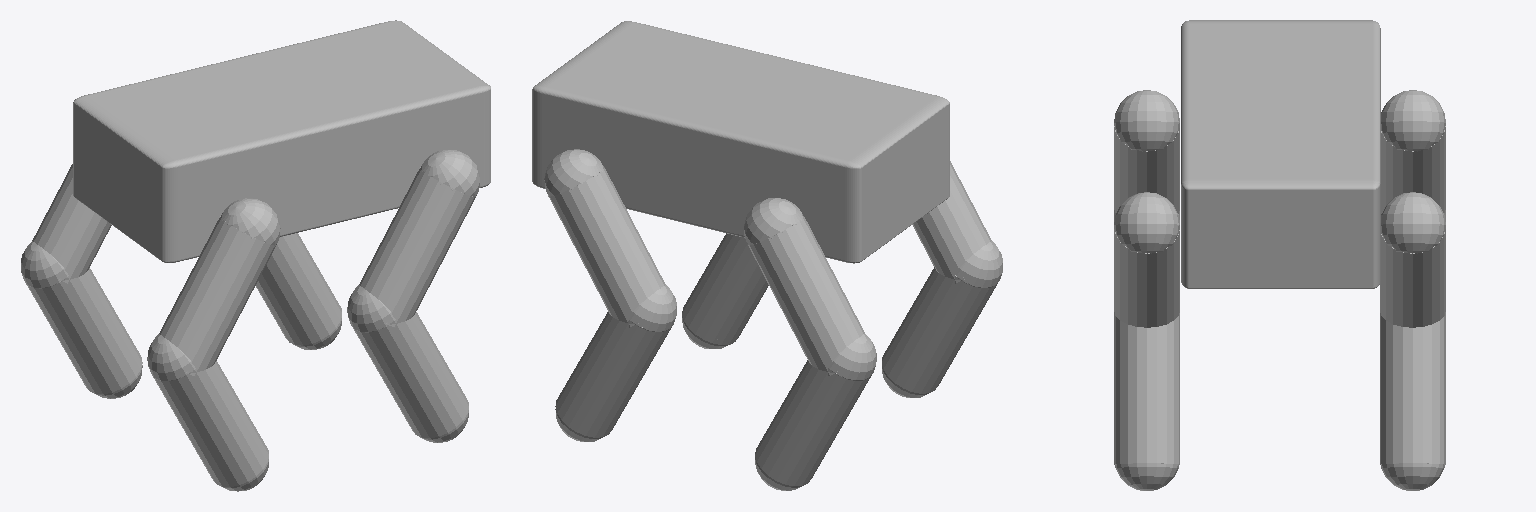
URDF robot description (spot):
<?xml version="1.0" encoding="utf-8"?>
<robot
  name="spot">

  <link
    name="base_link">
    <inertial>
      <origin
        xyz="0 0 0"
        rpy="0 0 0" />
      <mass
        value="0" />
      <inertia
        ixx="0"
        ixy="0"
        ixz="0"
        iyy="0"
        iyz="0"
        izz="0" />
    </inertial>
    <visual>
      <origin
        xyz="0 0 0"
        rpy="0 0 0" />
      <geometry>
        <mesh
          filename="package://spot_description/meshes/base_link.STL" />
      </geometry>
      <material
        name="">
        <color
          rgba="0.75294 0.75294 0.75294 1" />
      </material>
    </visual>
    <collision>
      <origin
        xyz="0 0 0"
        rpy="0 0 0" />
      <geometry>
        <mesh
          filename="package://spot_description/meshes/base_link.STL" />
      </geometry>
    </collision>
  </link>

  <link
    name="body_link">
    <inertial>
      <origin
        xyz="0 0 0"
        rpy="0 0 0" />
      <mass
        value="10" />
      <inertia
        ixx="1.00403567718539703"
        ixy="5.84359207050874E-20"
        ixz="-1.82010263240806E-19"
        iyy="1.00762097538812802"
        iyz="-1.82130436040198E-19"
        izz="1.00403567718539703" />
    </inertial>
    <visual>
      <origin
        xyz="0 0 0"
        rpy="0 0 0" />
      <geometry>
        <mesh
          filename="package://spot_description/meshes/body.dae" />
      </geometry>
      <material
        name="">
        <color
          rgba="0.752941176470588 0.752941176470588 0.752941176470588 1" />
      </material>
    </visual>
    <collision>
      <origin
        xyz="0 0 0"
        rpy="0 0 0" />
      <geometry>
        <mesh
          filename="package://spot_description/meshes/body.dae" />
      </geometry>
    </collision>
  </link>
  <joint
    name="body_joint"
    type="fixed">
    <origin
      xyz="0 0 1.2"
      rpy="0 0 0" />
    <parent
      link="base_link" />
    <child
      link="body_link" />
    <axis
      xyz="0 0 0" />
  </joint>

  <link
    name="leg_fr_link">
    <inertial>
      <origin
        xyz="0 0 0"
        rpy="0 0 0" />
      <mass
        value="1.33048365251046" />
      <inertia
        ixx="0.00403567718539703"
        ixy="5.84359207050874E-20"
        ixz="-1.82010263240806E-19"
        iyy="0.00762097538812802"
        iyz="-1.82130436040198E-19"
        izz="0.00403567718539703" />
    </inertial>
    <visual>
      <origin
        xyz="0 0 0"
        rpy="0 0 0" />
      <geometry>
        <mesh
          filename="package://spot_description/meshes/leg.dae" />
      </geometry>
      <material
        name="">
        <color
          rgba="0.752941176470588 0.752941176470588 0.752941176470588 1" />
      </material>
    </visual>
    <collision>
      <origin
        xyz="0 0 0"
        rpy="0 0 0" />
      <geometry>
        <mesh
          filename="package://spot_description/meshes/leg.dae" />
      </geometry>
    </collision>
  </link>
  <joint
    name="leg_fr_joint"
    type="continuous">
    <origin
      xyz="0.47 -0.5 -0.07"
      rpy="0 0 0" />
    <parent
      link="body_link" />
    <child
      link="leg_fr_link" />
    <axis
      xyz="0 1 0" />
  </joint>

  <link
    name="leg_fl_link">
    <inertial>
      <origin
        xyz="0 0 0"
        rpy="0 0 0" />
      <mass
        value="1.33048365251046" />
      <inertia
        ixx="0.00403567718539703"
        ixy="5.84359207050874E-20"
        ixz="-1.82010263240806E-19"
        iyy="0.00762097538812802"
        iyz="-1.82130436040198E-19"
        izz="0.00403567718539703" />
    </inertial>
    <visual>
      <origin
        xyz="0 0 0"
        rpy="0 0 0" />
      <geometry>
        <mesh
          filename="package://spot_description/meshes/leg.dae" />
      </geometry>
      <material
        name="">
        <color
          rgba="0.752941176470588 0.752941176470588 0.752941176470588 1" />
      </material>
    </visual>
    <collision>
      <origin
        xyz="0 0 0"
        rpy="0 0 0" />
      <geometry>
        <mesh
          filename="package://spot_description/meshes/leg.dae" />
      </geometry>
    </collision>
  </link>
  <joint
    name="leg_fl_joint"
    type="continuous">
    <origin
      xyz="0.47 0.5 -0.07"
      rpy="0 0 0" />
    <parent
      link="body_link" />
    <child
      link="leg_fl_link" />
    <axis
      xyz="0 1 0" />
  </joint>


  <link
    name="leg_rr_link">
    <inertial>
      <origin
        xyz="0 0 0"
        rpy="0 0 0" />
      <mass
        value="1.33048365251046" />
      <inertia
        ixx="0.00403567718539703"
        ixy="5.51923139126954E-20"
        ixz="-4.9513716801704E-19"
        iyy="0.00762097538812802"
        iyz="-4.51352093856294E-20"
        izz="0.00403567718539703" />
    </inertial>
    <visual>
      <origin
        xyz="0 0 0"
        rpy="0 0 0" />
      <geometry>
        <mesh
          filename="package://spot_description/meshes/leg.dae" />
      </geometry>
      <material
        name="">
        <color
          rgba="0.752941176470588 0.752941176470588 0.752941176470588 1" />
      </material>
    </visual>
    <collision>
      <origin
        xyz="0 0 0"
        rpy="0 0 0" />
      <geometry>
        <mesh
          filename="package://spot_description/meshes/leg.dae" />
      </geometry>
    </collision>
  </link>
  <joint
    name="leg_rr_joint"
    type="continuous">
    <origin
      xyz="-0.44 -0.5 -0.07"
      rpy="0 0 0" />
    <parent
      link="body_link" />
    <child
      link="leg_rr_link" />
    <axis
      xyz="0 1 0" />
  </joint>


  <link
    name="leg_rl_link">
    <inertial>
      <origin
        xyz="0 0 0"
        rpy="0 0 0" />
      <mass
        value="1.33048365251046" />
      <inertia
        ixx="0.00403567718539703"
        ixy="5.51923139126954E-20"
        ixz="-3.52834927017528E-19"
        iyy="0.00762097538812802"
        iyz="-1.82130436040198E-19"
        izz="0.00403567718539703" />
    </inertial>
    <visual>
      <origin
        xyz="0 0 0"
        rpy="0 0 0" />
      <geometry>
        <mesh
          filename="package://spot_description/meshes/leg.dae" />
      </geometry>
      <material
        name="">
        <color
          rgba="0.752941176470588 0.752941176470588 0.752941176470588 1" />
      </material>
    </visual>
    <collision>
      <origin
        xyz="0 0 0"
        rpy="0 0 0" />
      <geometry>
        <mesh
          filename="package://spot_description/meshes/leg.dae" />
      </geometry>
    </collision>
  </link>
  <joint
    name="leg_rl_joint"
    type="continuous">
    <origin
      xyz="-0.44 0.5 -0.07"
      rpy="0 0 0" />
    <parent
      link="body_link" />
    <child
      link="leg_rl_link" />
    <axis
      xyz="0 1 0" />
  </joint>
</robot>

--- Facts derived from the render (not from the file) ---
Views: 3 orthographic renders of the robot side by side, from view 1: azimuth 30°, elevation 25°; view 2: azimuth 150°, elevation 25°; view 3: azimuth 270°, elevation 25°.
Model spot with 6 links and 5 joints (4 continuous, 1 fixed), rooted at base_link, posed every joint at zero.
Links seen in each view (by area): view 1: body_link, leg_fr_link, leg_rr_link, leg_rl_link, leg_fl_link; view 2: body_link, leg_rl_link, leg_fl_link, leg_rr_link, leg_fr_link; view 3: body_link, leg_fr_link, leg_fl_link, leg_rr_link, leg_rl_link.
Boxes of the visible links, bbox=[...] form: body_link: bbox=[73, 20, 490, 262]; leg_fr_link: bbox=[347, 150, 479, 442]; leg_rr_link: bbox=[147, 198, 280, 491]; leg_rl_link: bbox=[21, 164, 142, 398]; leg_fl_link: bbox=[256, 233, 341, 349]; body_link: bbox=[532, 21, 949, 263]; leg_rl_link: bbox=[744, 198, 876, 490]; leg_fl_link: bbox=[544, 149, 676, 441]; leg_rr_link: bbox=[882, 161, 1002, 397]; leg_fr_link: bbox=[682, 233, 768, 348]; body_link: bbox=[1181, 20, 1380, 288]; leg_fr_link: bbox=[1114, 192, 1179, 490]; leg_fl_link: bbox=[1380, 192, 1445, 490]; leg_rr_link: bbox=[1114, 90, 1179, 221]; leg_rl_link: bbox=[1381, 90, 1445, 221].
Bounding box of the posed robot: 1.64 × 1.25 × 1.41 m (x, y, z).
5 mesh visuals loaded from 3 distinct referenced files (2 Collada DAE); not drawn: 1 (reference not matched to a file when rendering).